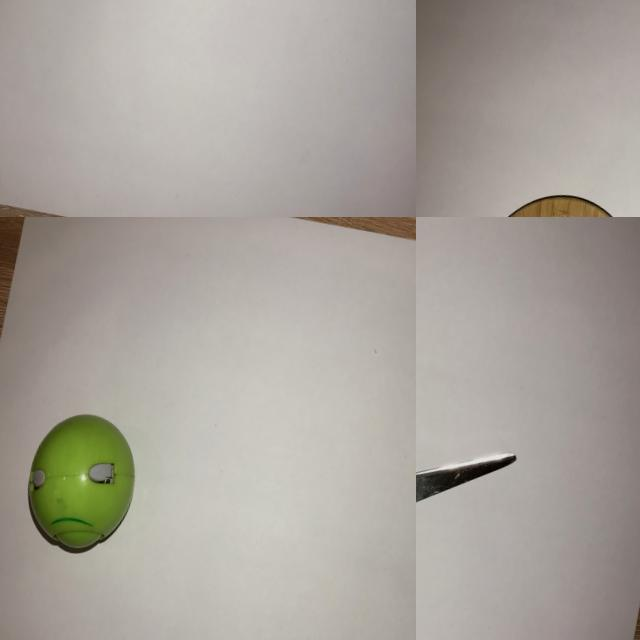cup_holder: (435, 169, 640, 217)
scissors: (416, 385, 523, 640)
toy: (7, 389, 154, 573)
